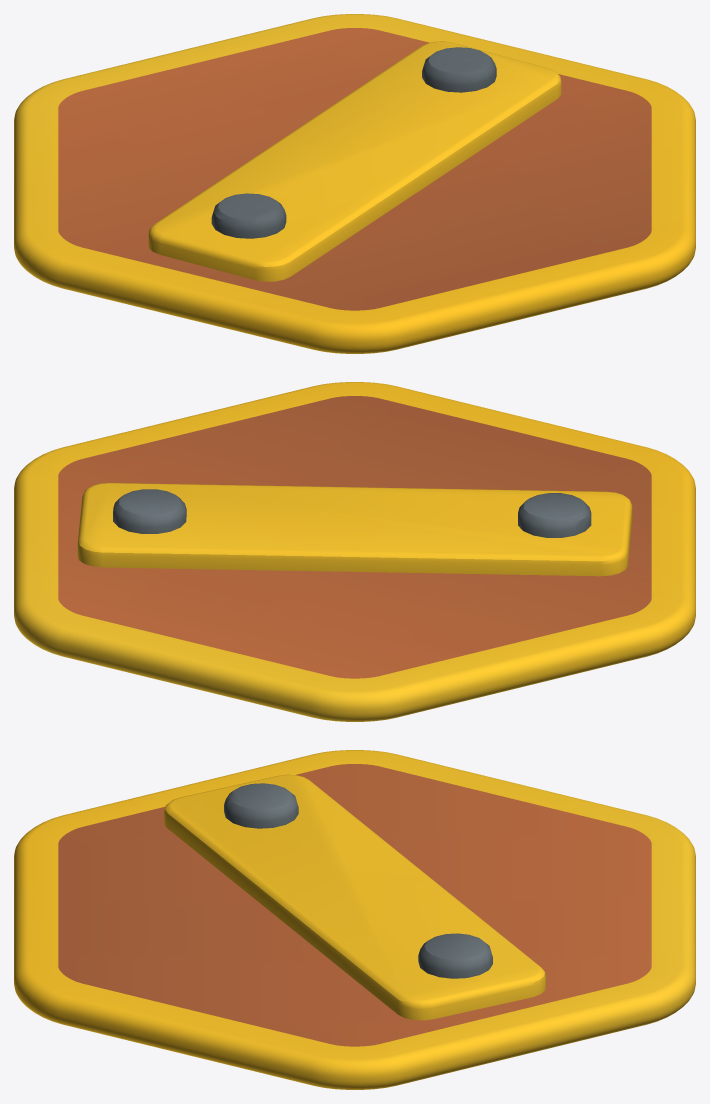
Rendered from Wooden1.fbx.
The picture shows the model from 3 angles, top to bottom: view 1: azimuth 30°, elevation 25°; view 2: azimuth 150°, elevation 25°; view 3: azimuth 270°, elevation 25°; orthographic projection.
Visible parts, largest first — view 1: Cylinder, Cube.007; view 2: Cylinder, Cube.007; view 3: Cylinder, Cube.007.
Part boxes in pixels (left/top/right/bottom): Cylinder: left=14, top=14, right=695, bottom=353; Cube.007: left=148, top=41, right=561, bottom=281; Cylinder: left=14, top=382, right=695, bottom=721; Cube.007: left=77, top=483, right=632, bottom=576; Cylinder: left=14, top=750, right=695, bottom=1089; Cube.007: left=164, top=774, right=545, bottom=1020.
Bounding box in the file's own units: 36.04 × 3.43 × 32.47.
